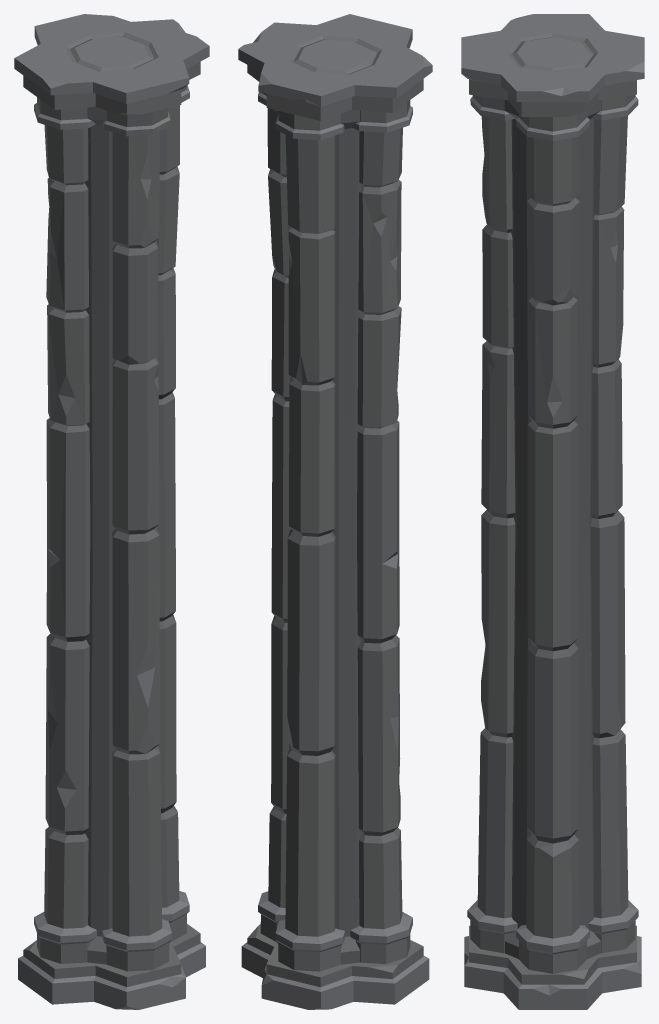
Rendered from crypt_pillar_b.gltf.
3 views of the same model, side by side, from view 1: azimuth 30°, elevation 25°; view 2: azimuth 150°, elevation 25°; view 3: azimuth 270°, elevation 25° (orthographic).
Visible parts, largest first — view 1: crypt_pillar_b; view 2: crypt_pillar_b; view 3: crypt_pillar_b.
Part boxes in pixels (<box>): crypt_pillar_b: <box>14,14,209,1009</box>; crypt_pillar_b: <box>238,14,432,1009</box>; crypt_pillar_b: <box>461,14,644,1009</box>.
Bounding box in the file's own units: 1.08 × 6 × 1.08.
Materials: 1 (1 with a texture image).
